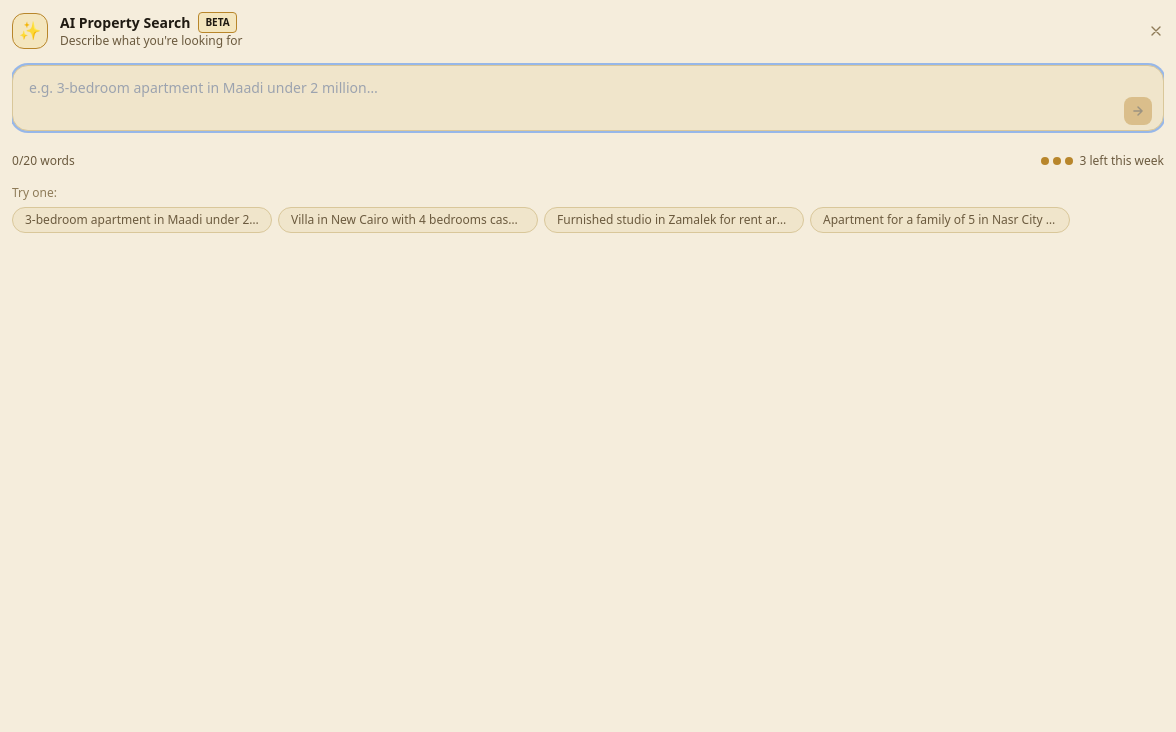
AISearchPanel › does NOT render notice when fallback not applied
In the text box with placeholder "e.g. 3-bedroom apartment in Maadi under 2 million…": (588, 98) left=12, top=65, right=1164, bottom=131, type "3 bedroom apartment in Maadi under 2 million"
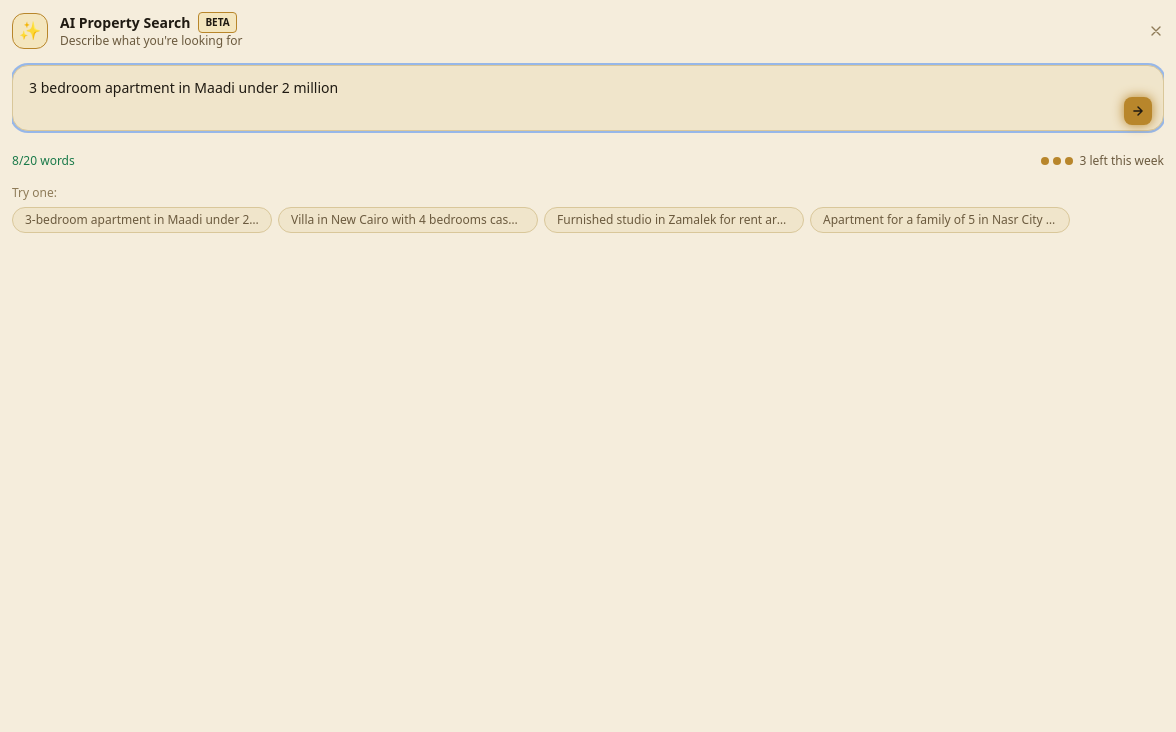
Press Enter
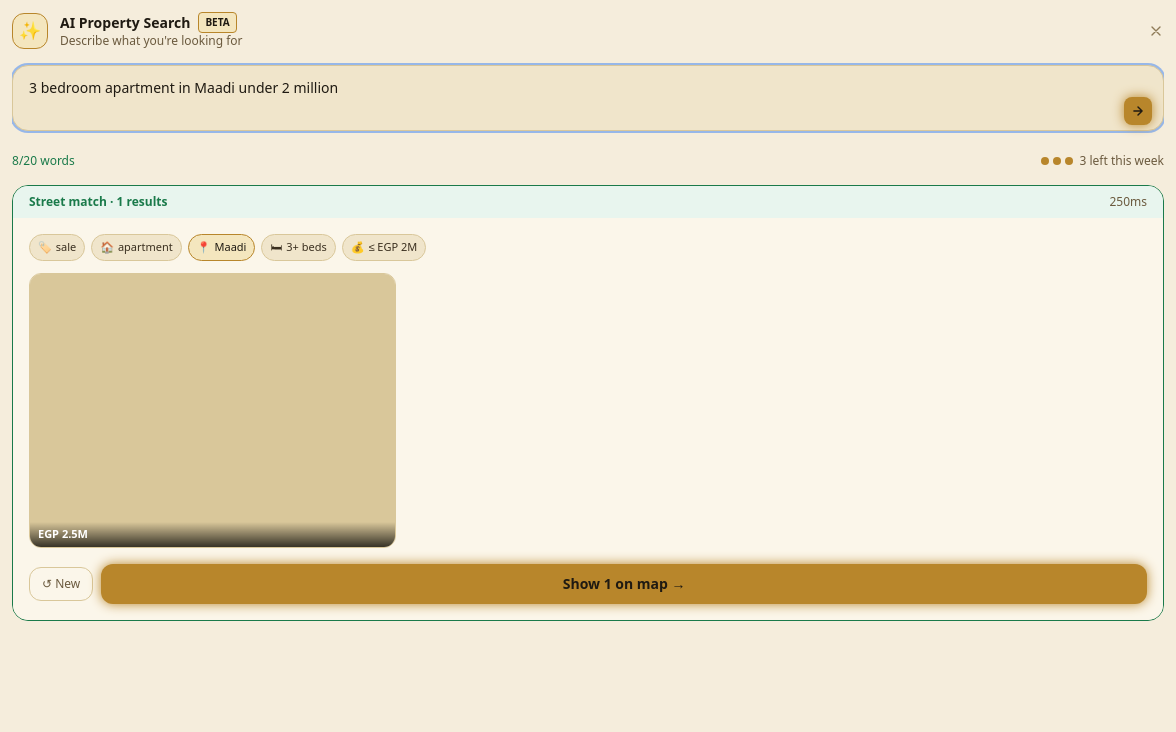
Check: the text "Street match · 1 results" is shown, box left=29, top=194, right=168, bottom=210
